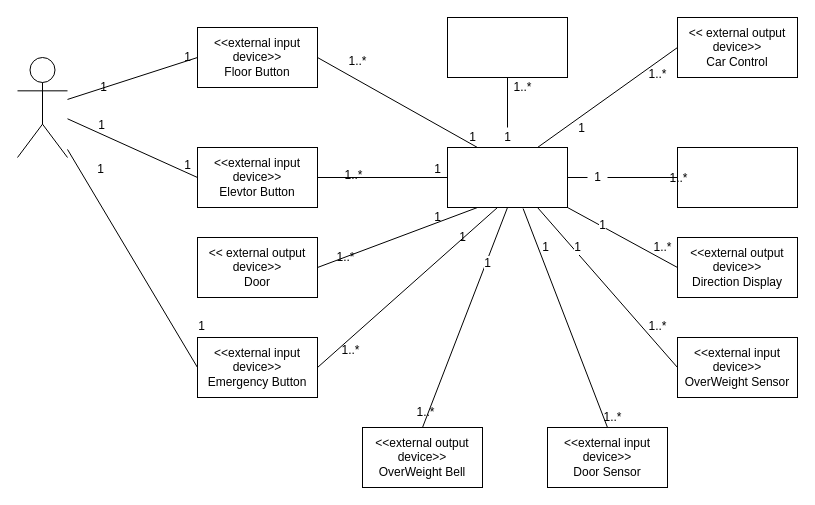
The diagram is 815 pixels wide and 505 high, and some of its shapes have lost their labels. Here are the shapes that lost their labels. From the top down, the box of each, then its label:
(446, 16, 568, 78): <<external output device>> Emergency Bell
(16, 56, 68, 158): User
(446, 146, 568, 208): <<system>> Elevator Control System
(676, 146, 798, 208): <<external input device>> Car Poition Sensor
